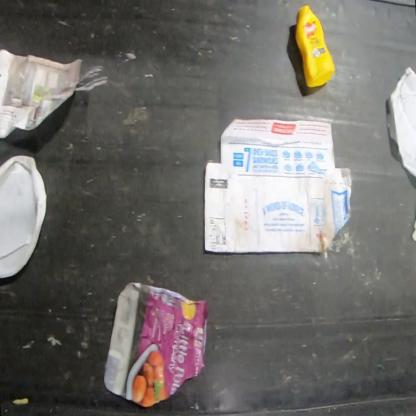cardboard: (204, 117, 351, 252)
rigid_plastic: (1, 155, 48, 279), (293, 5, 336, 89)
soft_plastic: (104, 280, 208, 408)
